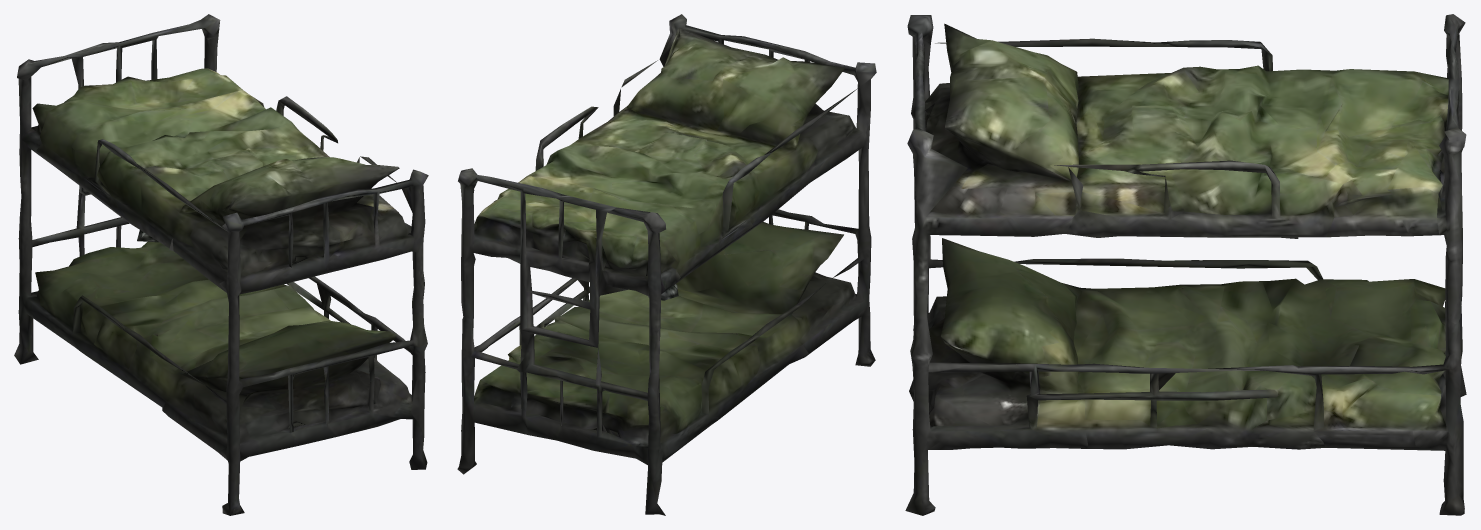
File: xd_bunk.glb
3 renders of one model, left to right at view 1: azimuth 30°, elevation 25°; view 2: azimuth 150°, elevation 25°; view 3: azimuth 270°, elevation 25°, orthographic. The views are drawn at different scales.
Visible parts, largest first — view 1: tripo_node_9a7a8334-fa65-46a6-aa28-39bf93091c81; view 2: tripo_node_9a7a8334-fa65-46a6-aa28-39bf93091c81; view 3: tripo_node_9a7a8334-fa65-46a6-aa28-39bf93091c81.
Part boxes in pixels (x1=…): tripo_node_9a7a8334-fa65-46a6-aa28-39bf93091c81: x1=14, y1=14, x2=428, y2=515; tripo_node_9a7a8334-fa65-46a6-aa28-39bf93091c81: x1=457, y1=14, x2=876, y2=515; tripo_node_9a7a8334-fa65-46a6-aa28-39bf93091c81: x1=905, y1=14, x2=1466, y2=515.
Size of the model in its own units: 0.5394 by 0.7609 by 1.
1 material, 1 textured.
